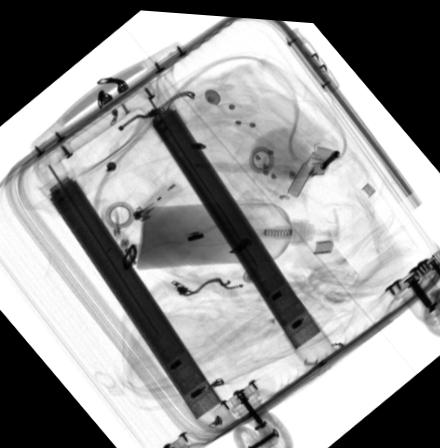Lighter: (133, 175, 184, 220)
